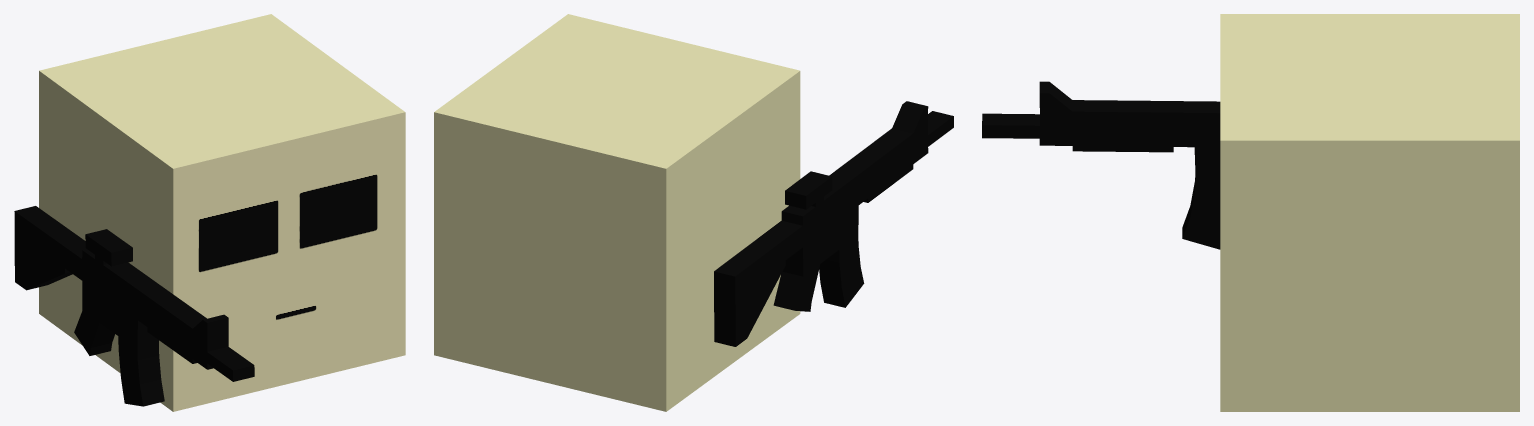
Rendered from soldier_animations.glb.
3 renders of one model, left to right at view 1: azimuth 30°, elevation 25°; view 2: azimuth 150°, elevation 25°; view 3: azimuth 270°, elevation 25°, orthographic. The views are drawn at different scales.
Visible parts, largest first — view 1: Cube, Rifle; view 2: Cube, Rifle; view 3: Cube, Rifle.
Boxes of the visible parts, x1,y1,x2,y2 form: Cube: [39, 14, 405, 411]; Rifle: [14, 206, 254, 406]; Cube: [434, 14, 800, 411]; Rifle: [714, 101, 953, 346]; Cube: [1220, 14, 1519, 411]; Rifle: [982, 81, 1220, 249].
Bounding box in the file's own units: 4.81 × 4 × 7.18.
3 materials, 2 textured.
